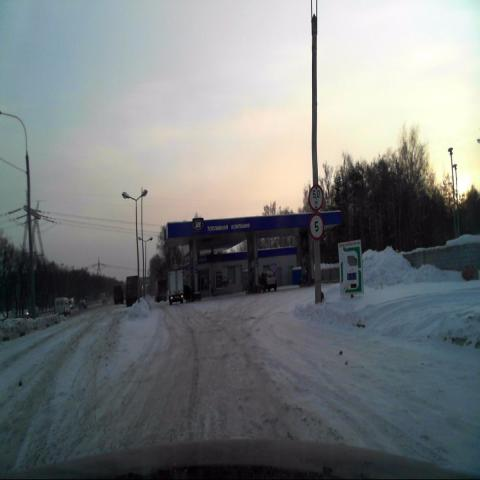3_13: (308, 185, 324, 212)
